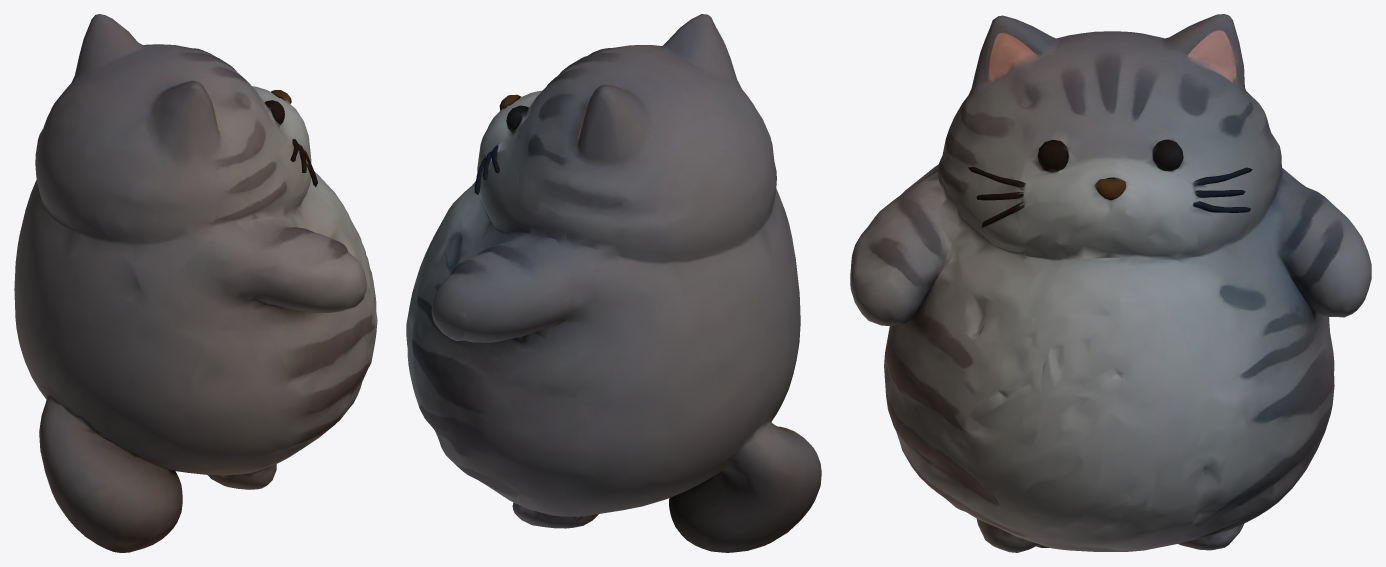
The model's file is body.glb.
3 renders of one model, left to right at view 1: azimuth 30°, elevation 25°; view 2: azimuth 150°, elevation 25°; view 3: azimuth 270°, elevation 25°, orthographic. The views are drawn at different scales.
Parts seen in each view (by area): view 1: tripo_node_659deec1-8781-457e-9f8a-f1d0f014a914; view 2: tripo_node_659deec1-8781-457e-9f8a-f1d0f014a914; view 3: tripo_node_659deec1-8781-457e-9f8a-f1d0f014a914.
Boxes of the visible parts, x1=… form: tripo_node_659deec1-8781-457e-9f8a-f1d0f014a914: x1=14, y1=14, x2=377, y2=552; tripo_node_659deec1-8781-457e-9f8a-f1d0f014a914: x1=406, y1=14, x2=821, y2=552; tripo_node_659deec1-8781-457e-9f8a-f1d0f014a914: x1=850, y1=14, x2=1371, y2=552.
Bounding box in the file's own units: 0.7249 × 1 × 0.8611.
1 material, 1 textured.
